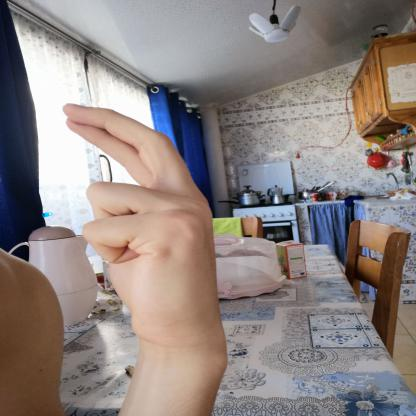ZAY: (51, 93, 238, 360)
